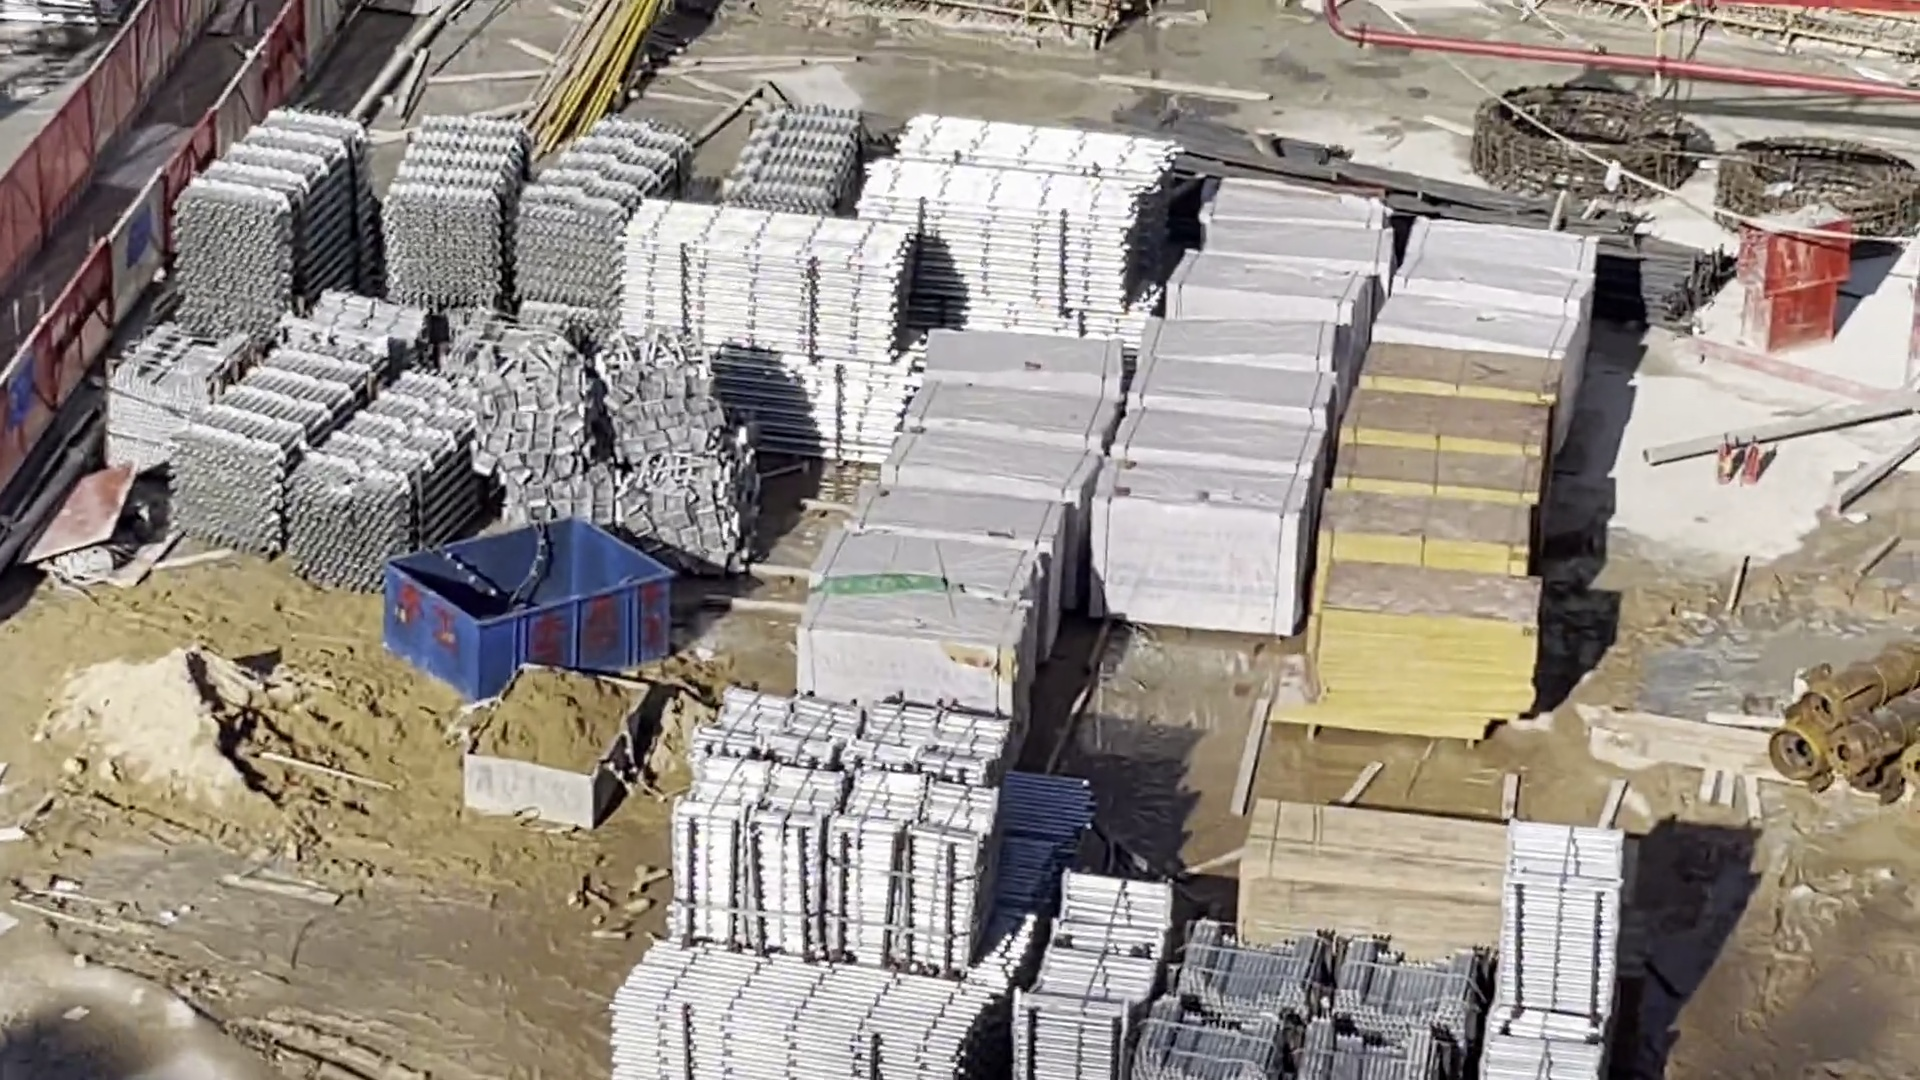board: (1323, 349, 1535, 738), (1258, 800, 1502, 957)
fence: (5, 3, 309, 481)
hopper: (388, 518, 673, 700), (465, 662, 647, 829)
rebar: (1182, 113, 1716, 323)
scaffold: (671, 692, 1005, 965), (179, 343, 497, 582), (858, 116, 1168, 343), (632, 208, 909, 454), (382, 123, 698, 335), (611, 949, 997, 1080), (1133, 934, 1477, 1080), (177, 111, 371, 322), (1478, 819, 1615, 1080), (1006, 876, 1178, 1080), (731, 109, 869, 218)
slogan: (12, 360, 32, 431)
